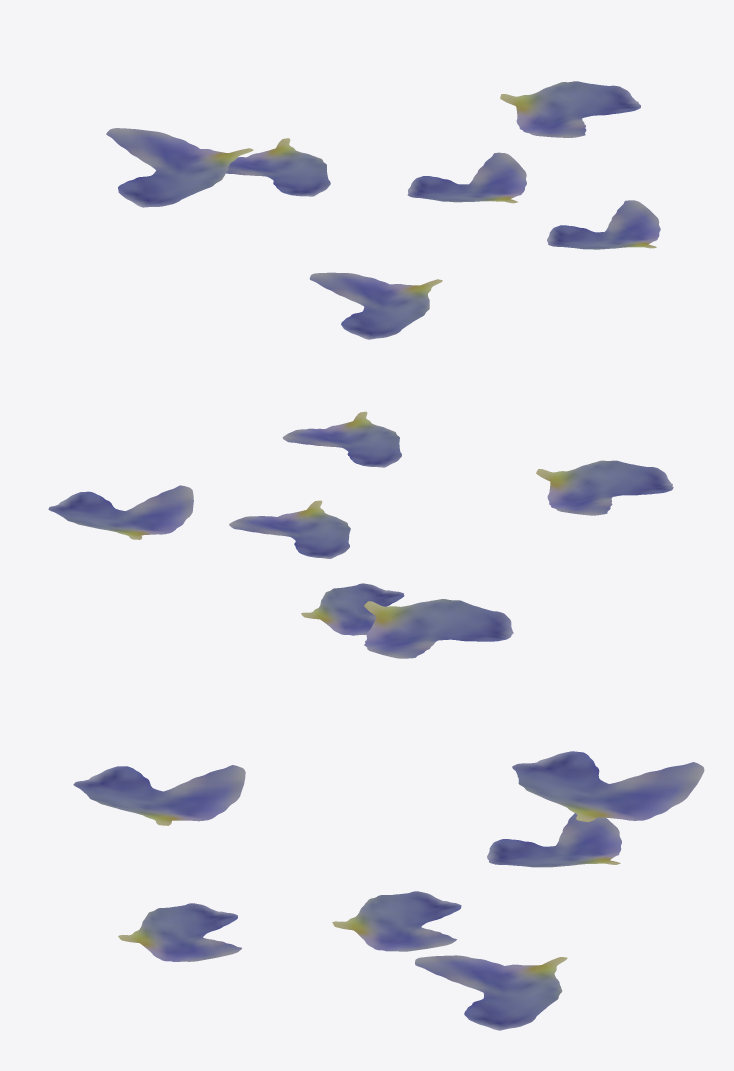
File: arden_forest_lupin_05_foliage.fbx
3 renders of one model, top to bottom at view 1: azimuth 30°, elevation 25°; view 2: azimuth 150°, elevation 25°; view 3: azimuth 270°, elevation 25°, orthographic. The views are drawn at different scales.
Parts seen in each view (by area): view 1: arden_forest_lupin_05_foliage; view 2: arden_forest_lupin_05_foliage; view 3: arden_forest_lupin_05_foliage.
Part boxes in pixels (left/top/right/bottom): arden_forest_lupin_05_foliage: left=106, top=81, right=660, bottom=339; arden_forest_lupin_05_foliage: left=48, top=411, right=673, bottom=658; arden_forest_lupin_05_foliage: left=73, top=751, right=704, bottom=1030.
Bounding box in the file's own units: 22.26 × 1.85 × 20.53.
